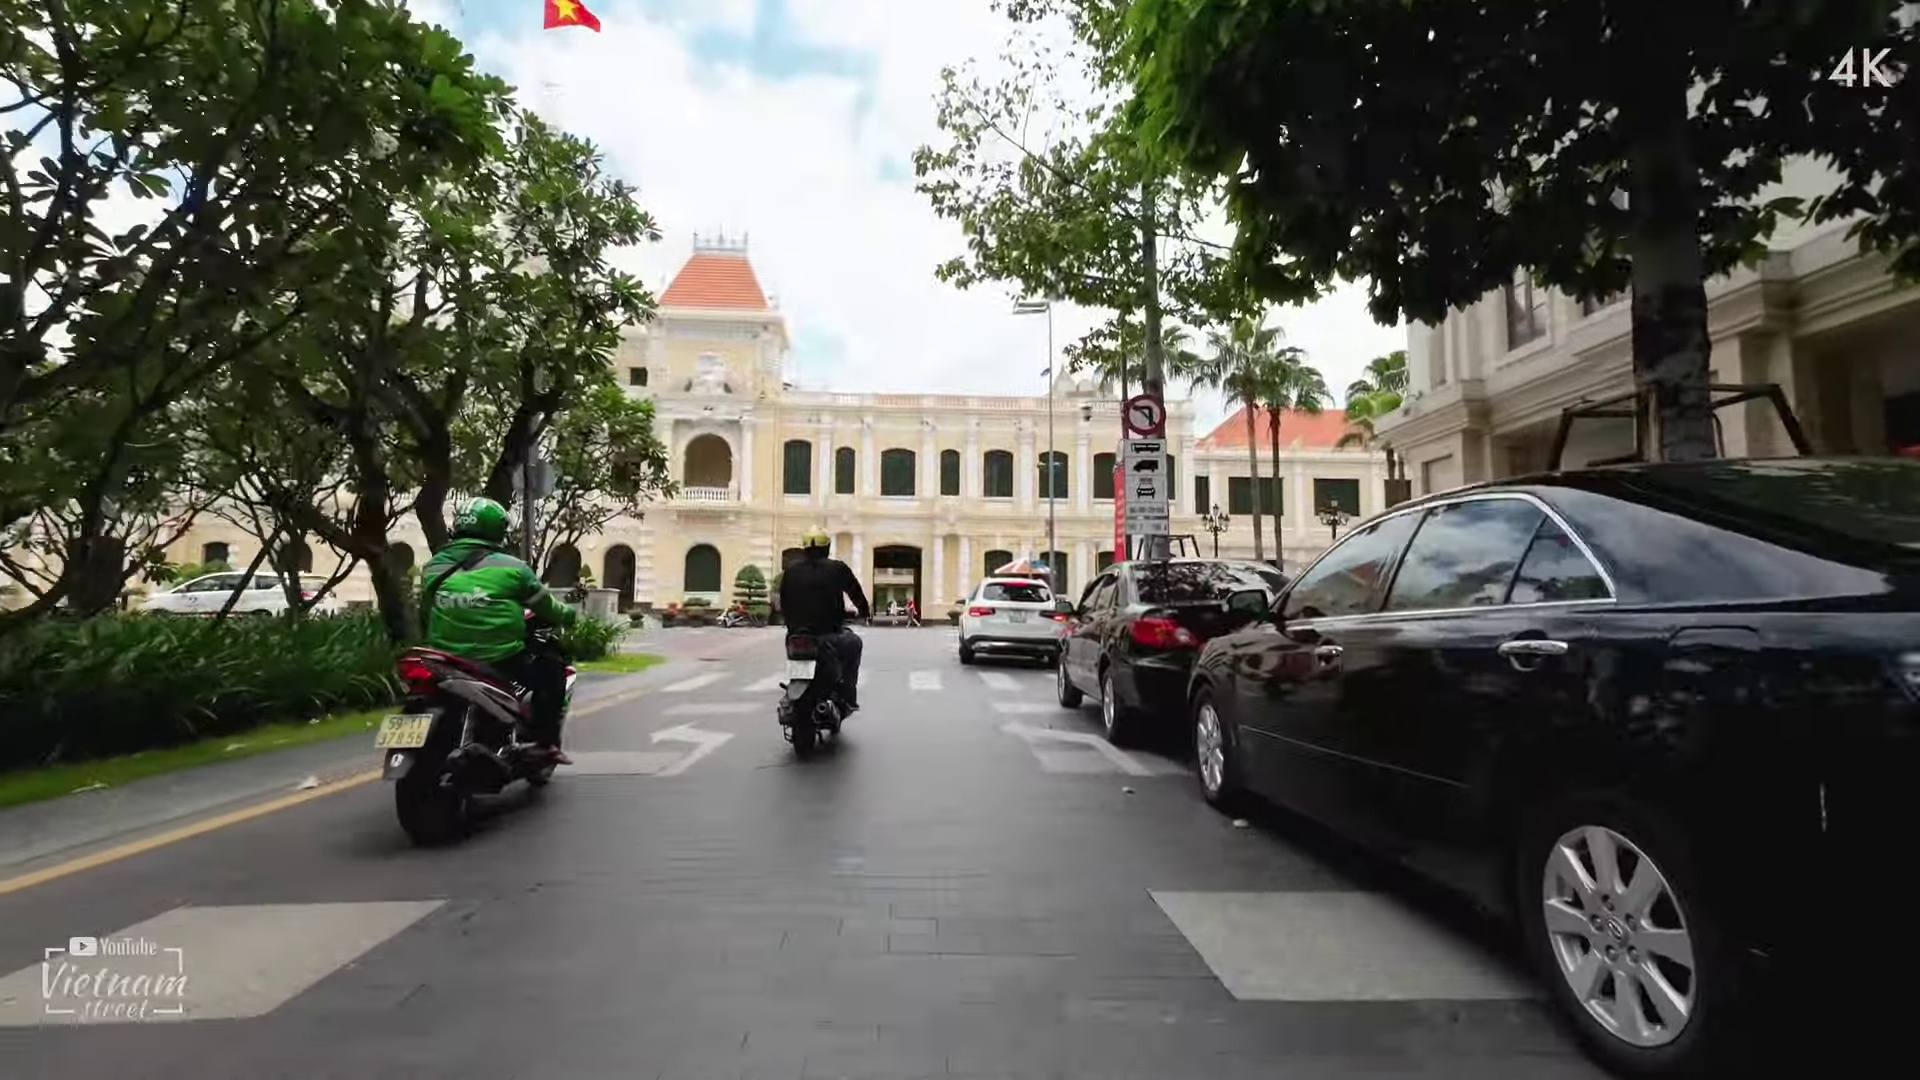cam_re_trai: (1120, 389, 1166, 439)
